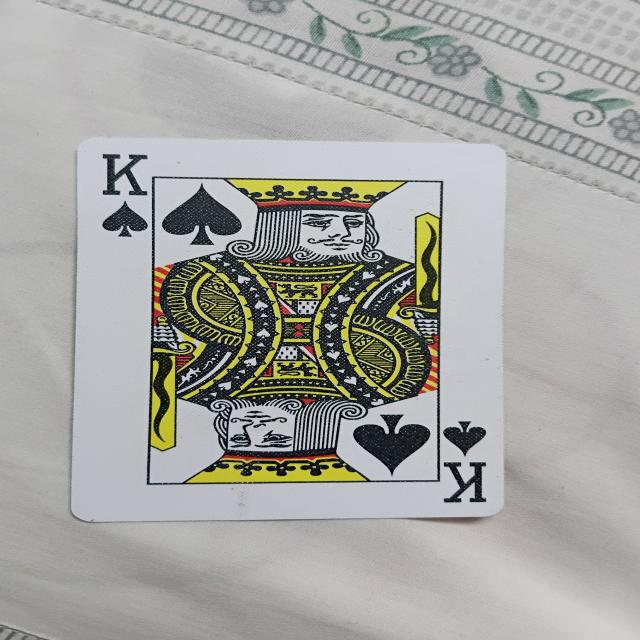KS: (71, 143, 516, 522)
